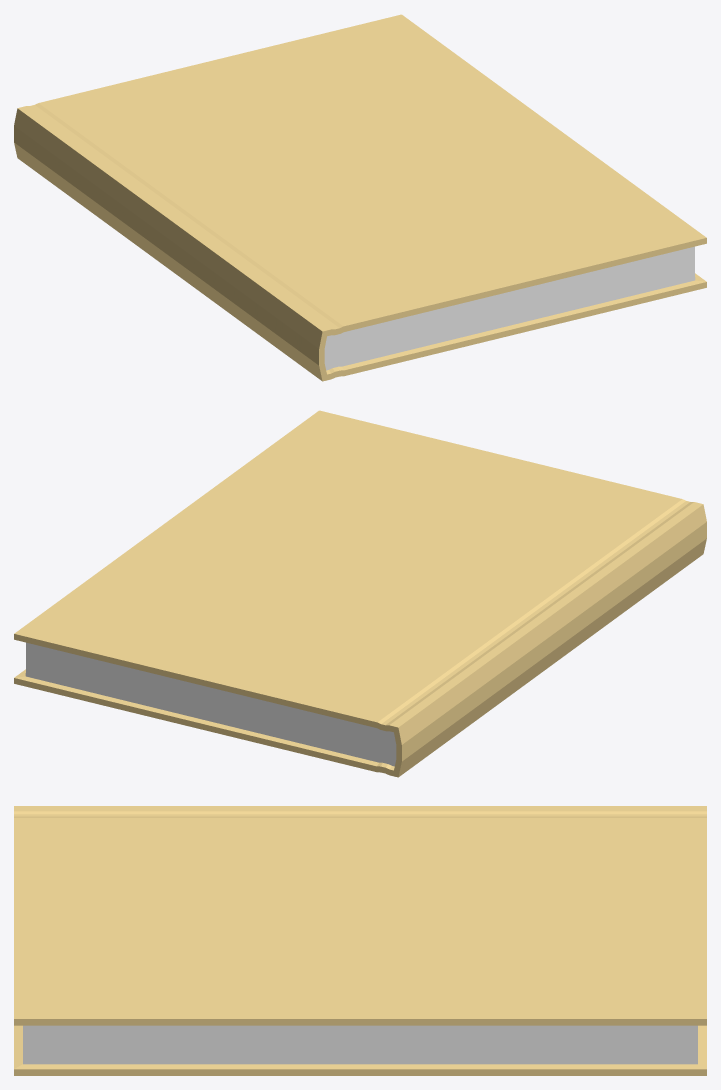
The picture shows the model from 3 angles, top to bottom: view 1: azimuth 30°, elevation 25°; view 2: azimuth 150°, elevation 25°; view 3: azimuth 270°, elevation 25°; orthographic projection. The views are drawn at different scales.
Visible parts, largest first — view 1: Architexture; view 2: Architexture; view 3: Architexture.
Part boxes in pixels (x1,y1,x2,y2): Architexture: (14, 14, 706, 381); Architexture: (14, 410, 706, 777); Architexture: (14, 806, 706, 1075).
Size of the model in its own units: 0.7338 by 0.0904 by 1.
